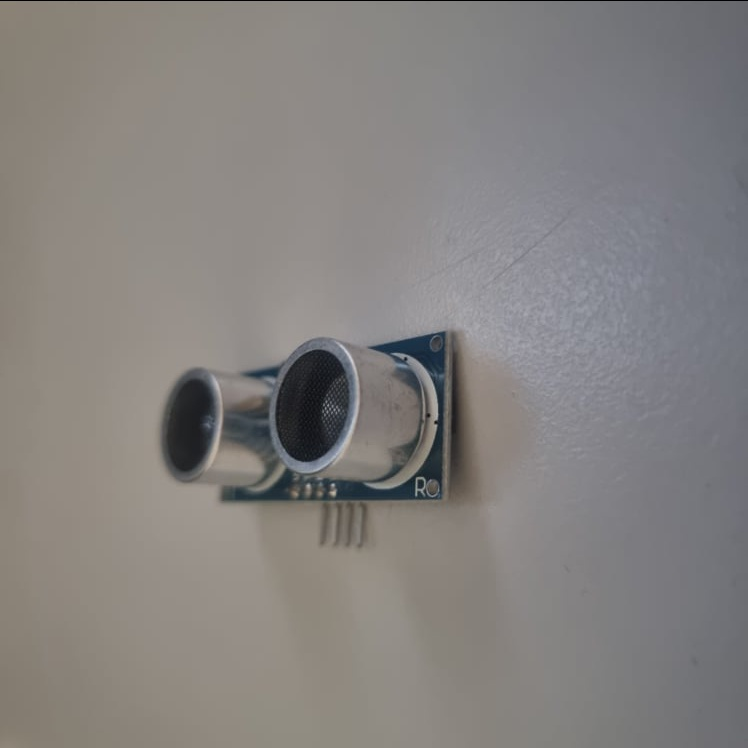SENSOR: (158, 327, 453, 510)
